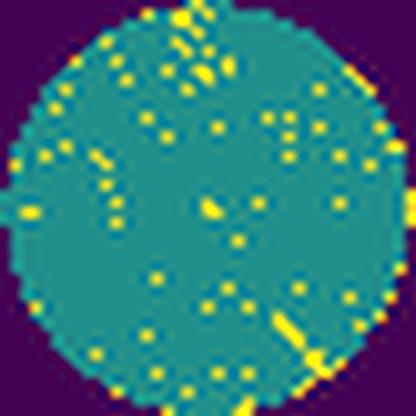Scratch: (269, 310, 330, 380)
